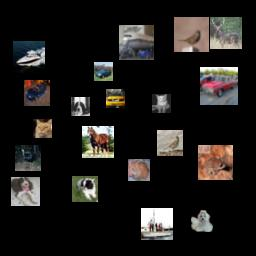airplane: (119, 25, 154, 60)
automobile: (200, 67, 238, 105), (24, 80, 50, 106), (106, 89, 125, 108), (94, 62, 113, 81)
bird: (174, 17, 209, 52), (157, 130, 183, 156), (15, 145, 41, 171)
cat: (128, 159, 150, 181), (33, 119, 52, 138), (152, 94, 171, 113)
deer: (210, 17, 242, 49)
dog: (11, 177, 40, 206), (72, 176, 98, 202), (191, 210, 213, 232), (71, 97, 90, 116)
frog: (198, 145, 233, 180)
ship: (141, 208, 173, 240), (13, 41, 45, 73)
